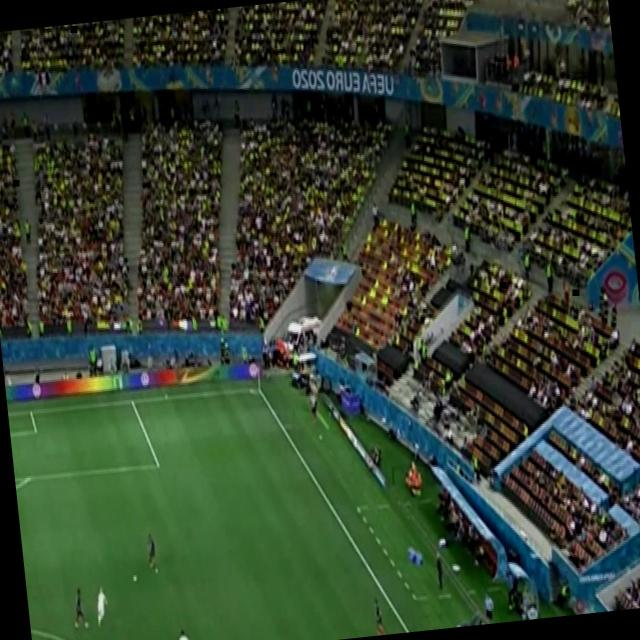ball: (132, 574, 138, 583), (318, 431, 322, 441)
player-white: (70, 584, 90, 632), (93, 583, 111, 629), (144, 531, 160, 575), (372, 594, 388, 636), (483, 590, 498, 624), (177, 625, 194, 640)
